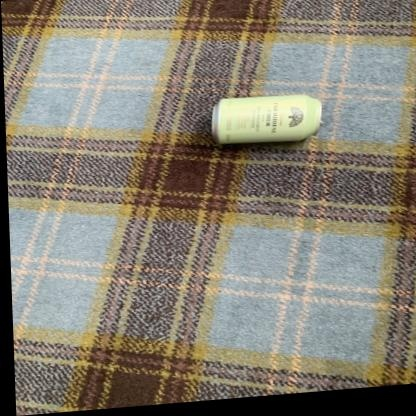trash: (212, 95, 321, 143)
